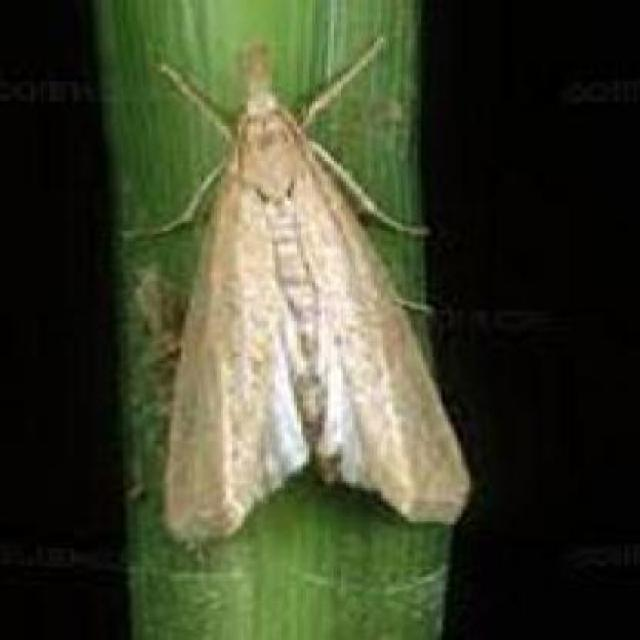stem-borer: (150, 33, 416, 544)
